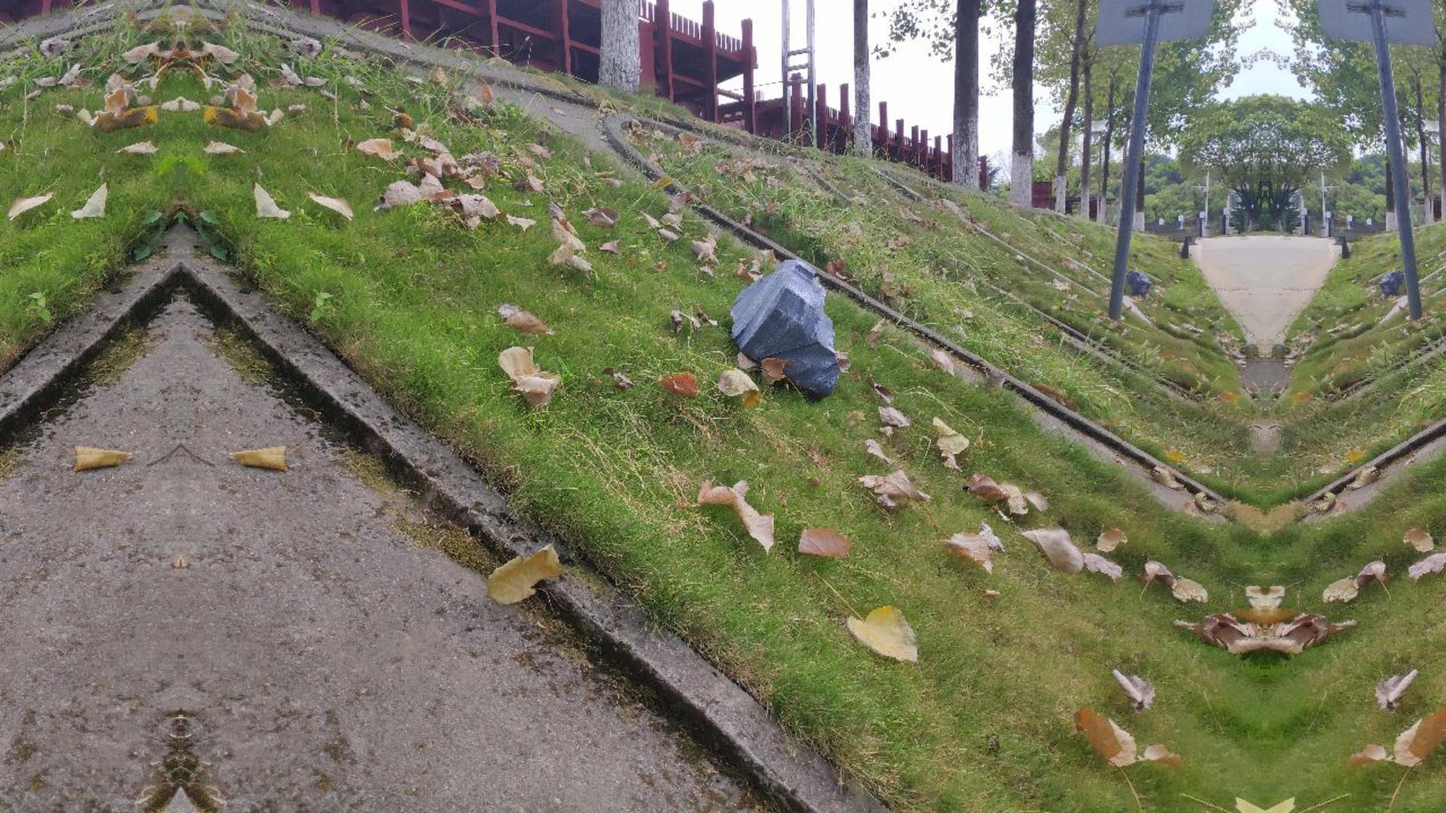rock: (731, 260, 838, 396)
